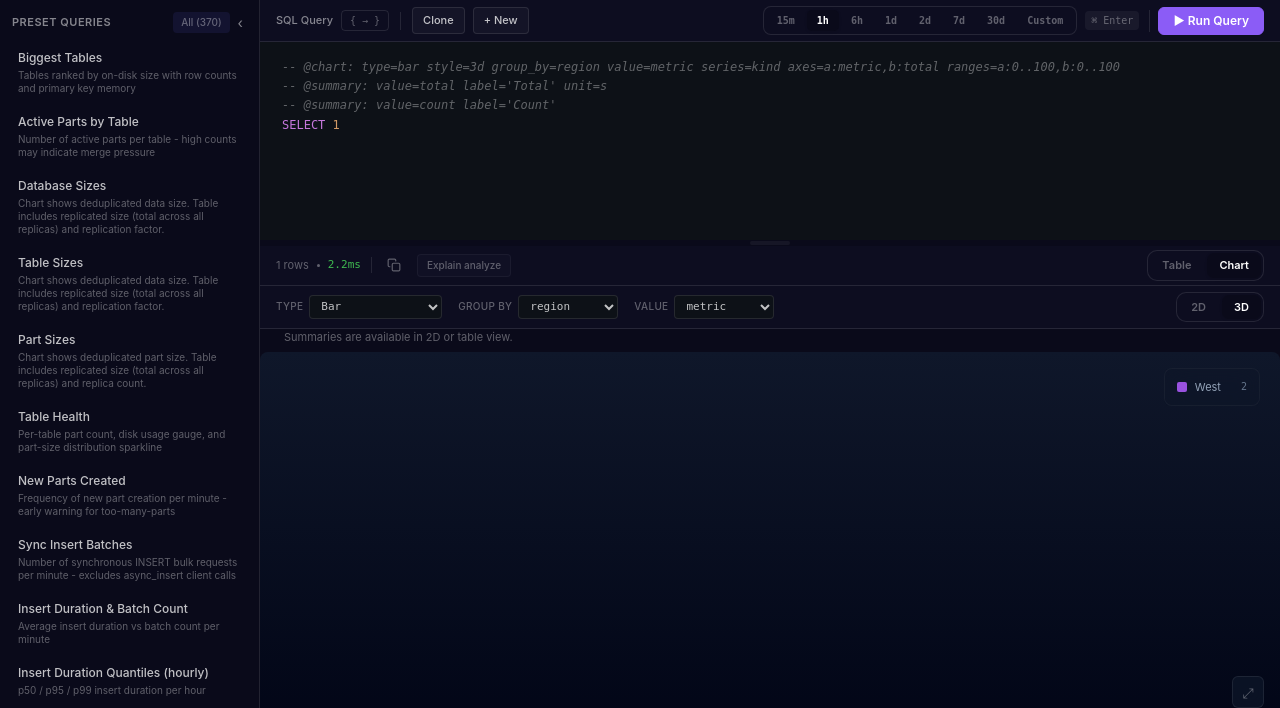
it: Query Explorer structured summaries › does not display metrics in 3D but retains them when switching to table view
Check: the text "Summaries are available in 2D or table view." is shown, box [284,330,513,344]
Click the button "Table": (1177, 265) [1150,253,1203,278]
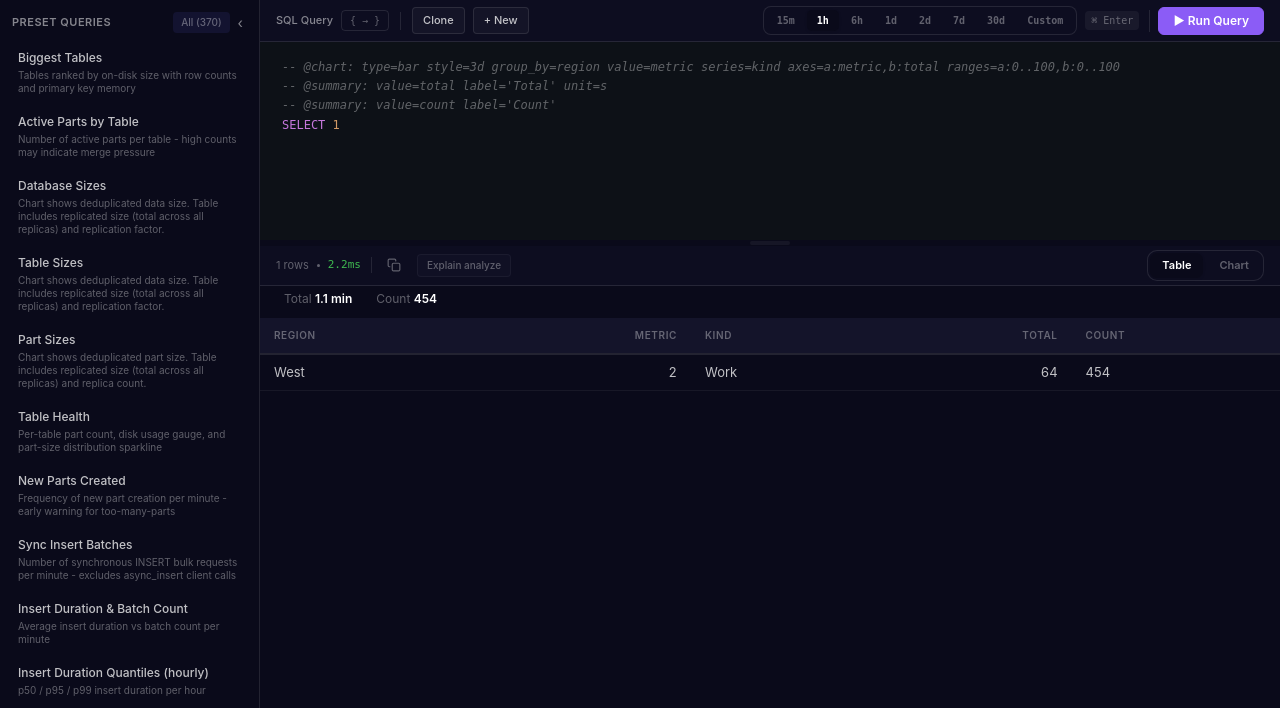
Check: the text named "Total: 64 s" is shown, box [315,290,352,306]
